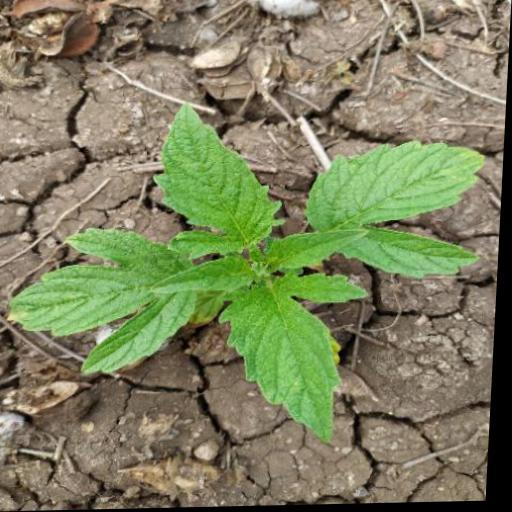crop: (4, 95, 489, 451)
